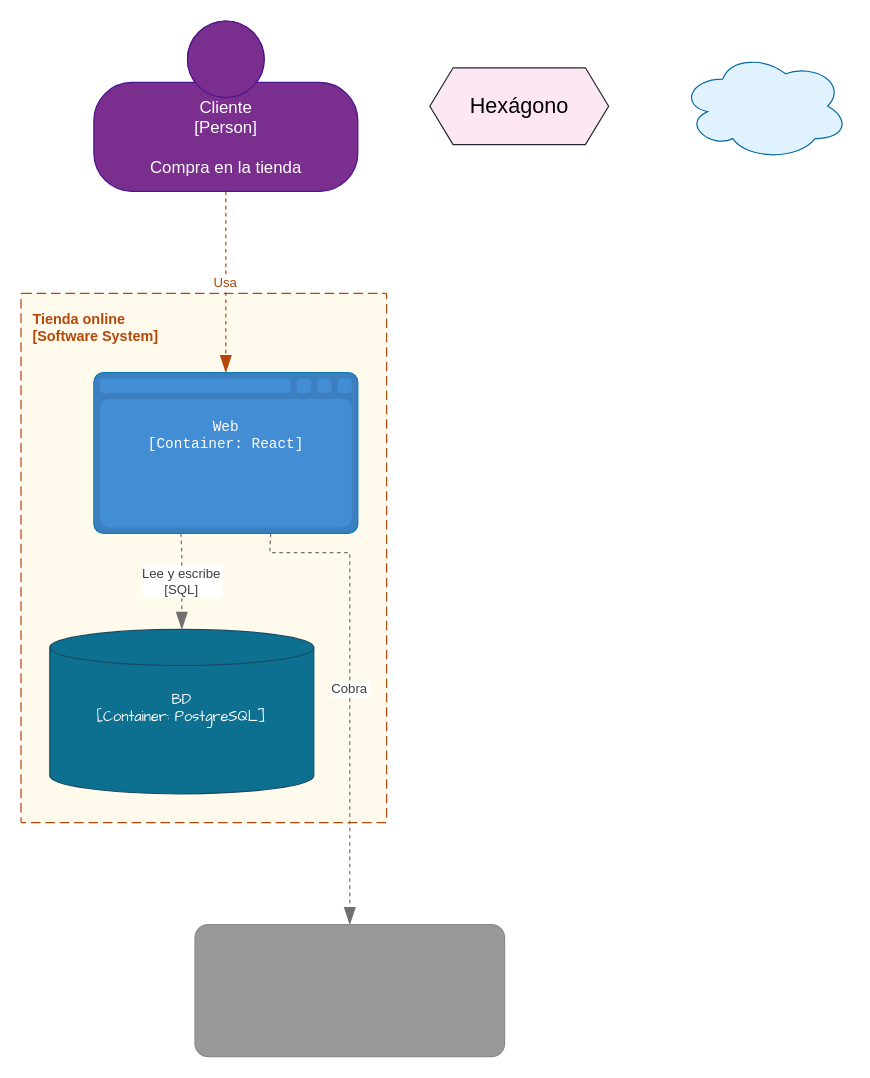
The diagram is 870 pixels wide and 1078 high, and some of its shapes have lost their labels. The shapes that lost their labels are listed below. From the top down, each one's centre as x and y in pixels, then its label:
At (x=764, y=105): "Nube".
At (x=349, y=990): "Pasarela [Software System - External]".
